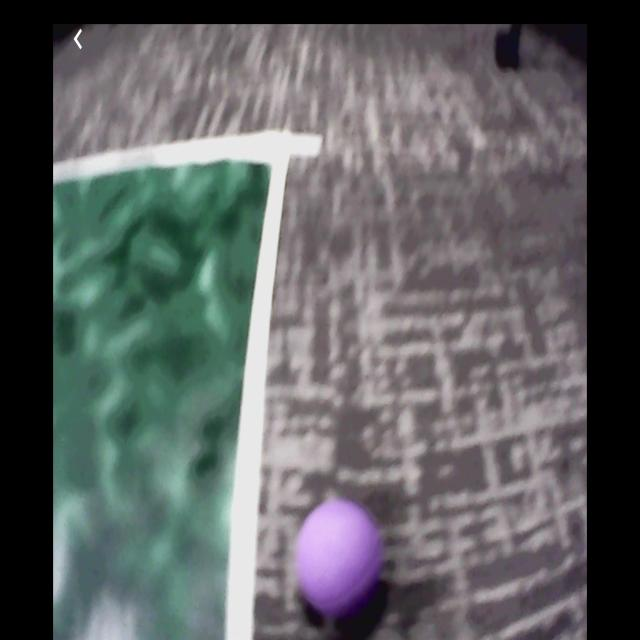ball: (294, 497, 385, 622)
